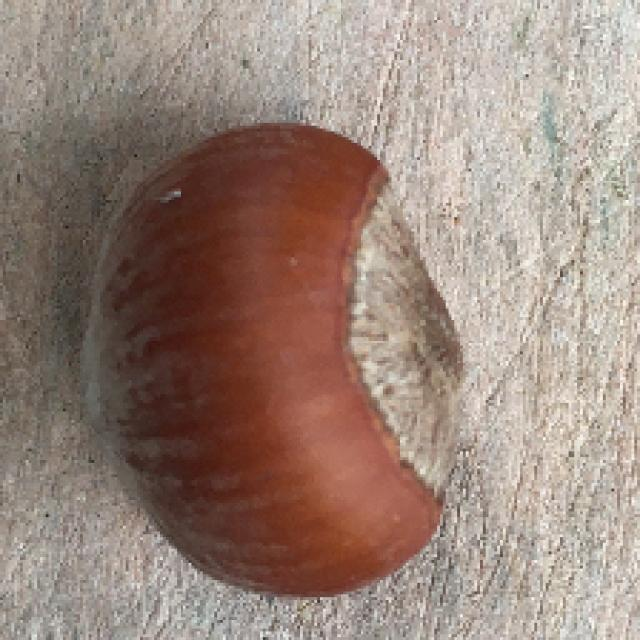qualityHazelnut: (72, 108, 474, 600)
